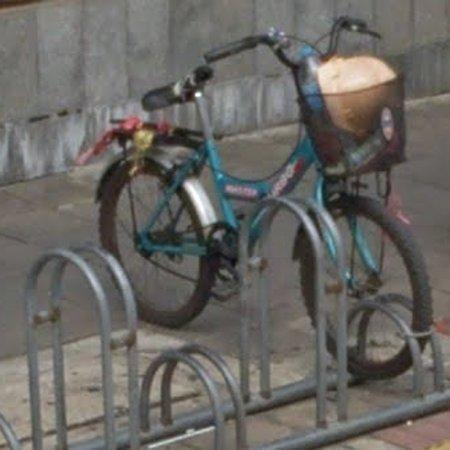bicycles: (97, 17, 434, 379)
